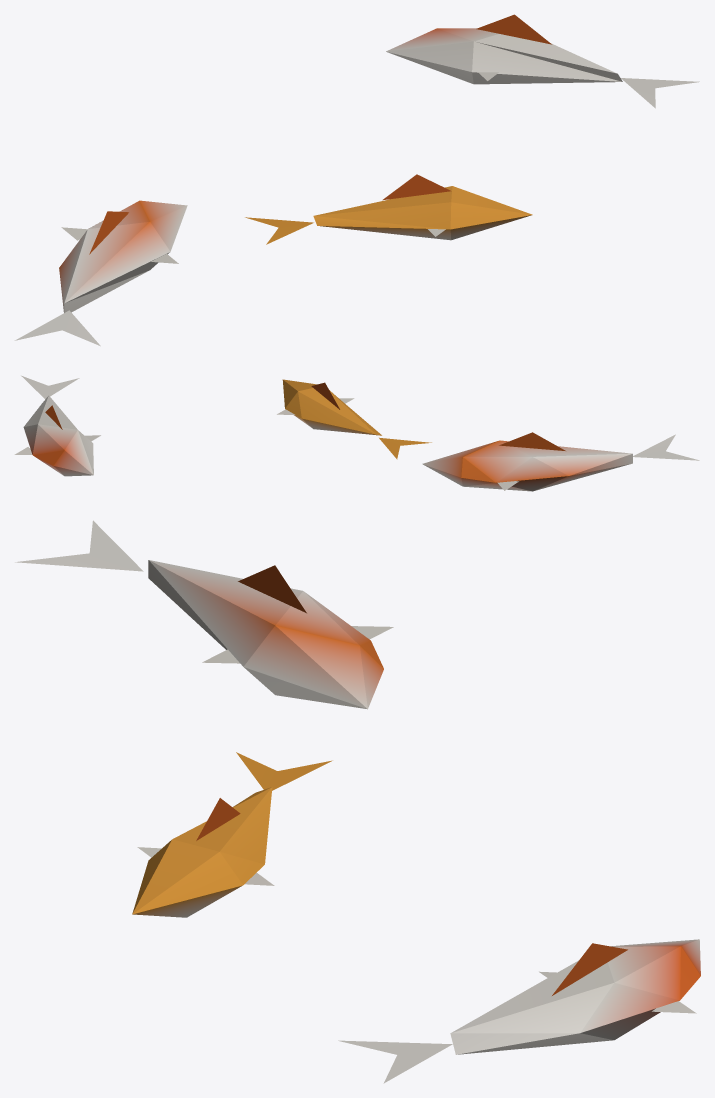
The model's file is zen_koi-lod1.glb.
3 renders of one model, top to bottom at view 1: azimuth 30°, elevation 25°; view 2: azimuth 150°, elevation 25°; view 3: azimuth 270°, elevation 25°, orthographic. The views are drawn at different scales.
Parts seen in each view (by area): view 1: zen_koi; view 2: zen_koi; view 3: zen_koi.
Boxes of the visible parts, x1=… form: zen_koi: x1=14, y1=14, x2=699, y2=346; zen_koi: x1=14, y1=375, x2=699, y2=491; zen_koi: x1=15, y1=520, x2=700, y2=1083.
Bounding box in the file's own units: 2.38 × 0.2257 × 1.25.
